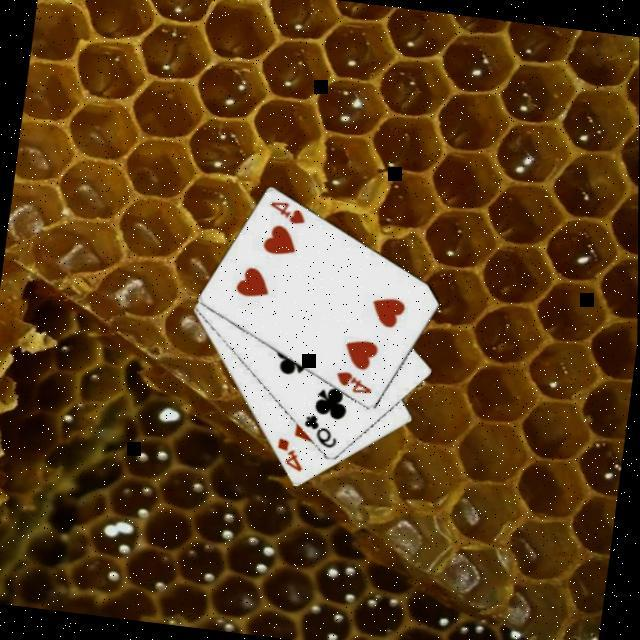4D: (270, 436, 308, 476)
4H: (331, 368, 376, 399), (264, 199, 309, 230)
6C: (298, 412, 342, 454)
